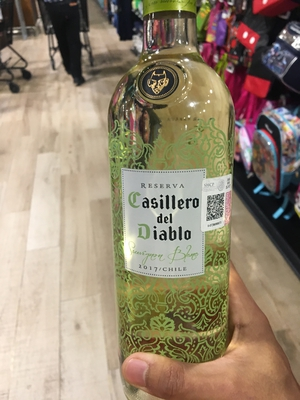casillero del diablo sauvignon blanc: (100, 4, 258, 374)
